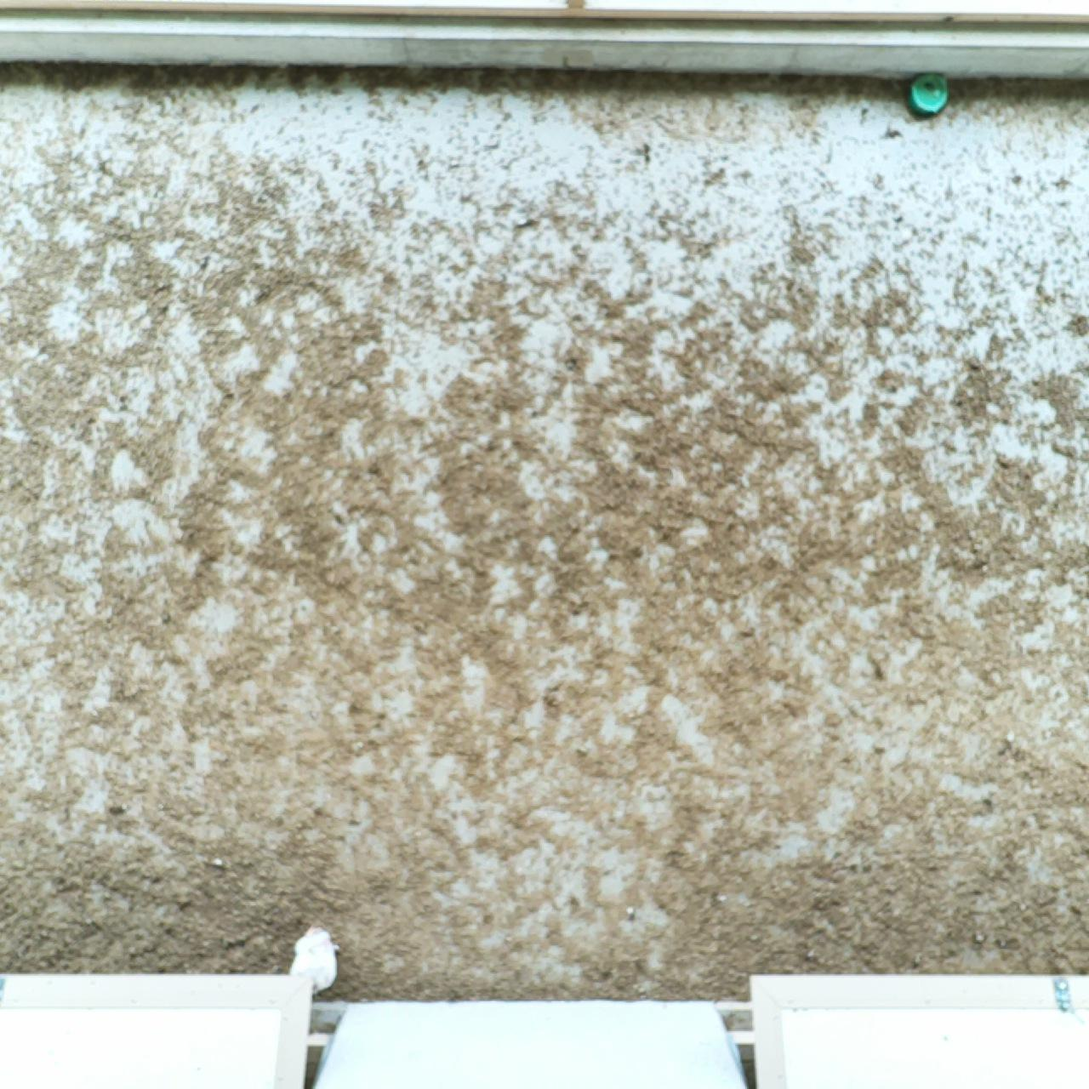chicken: (283, 917, 346, 1000)
